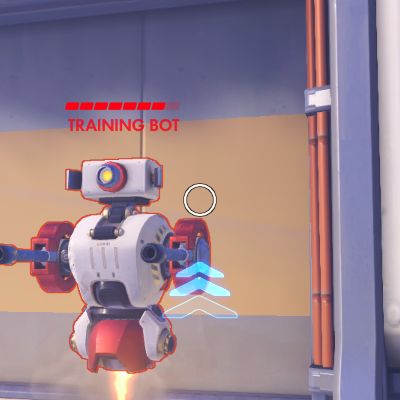hpbar: (65, 102, 180, 110)
